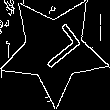L_SW: (26, 22, 83, 78)
